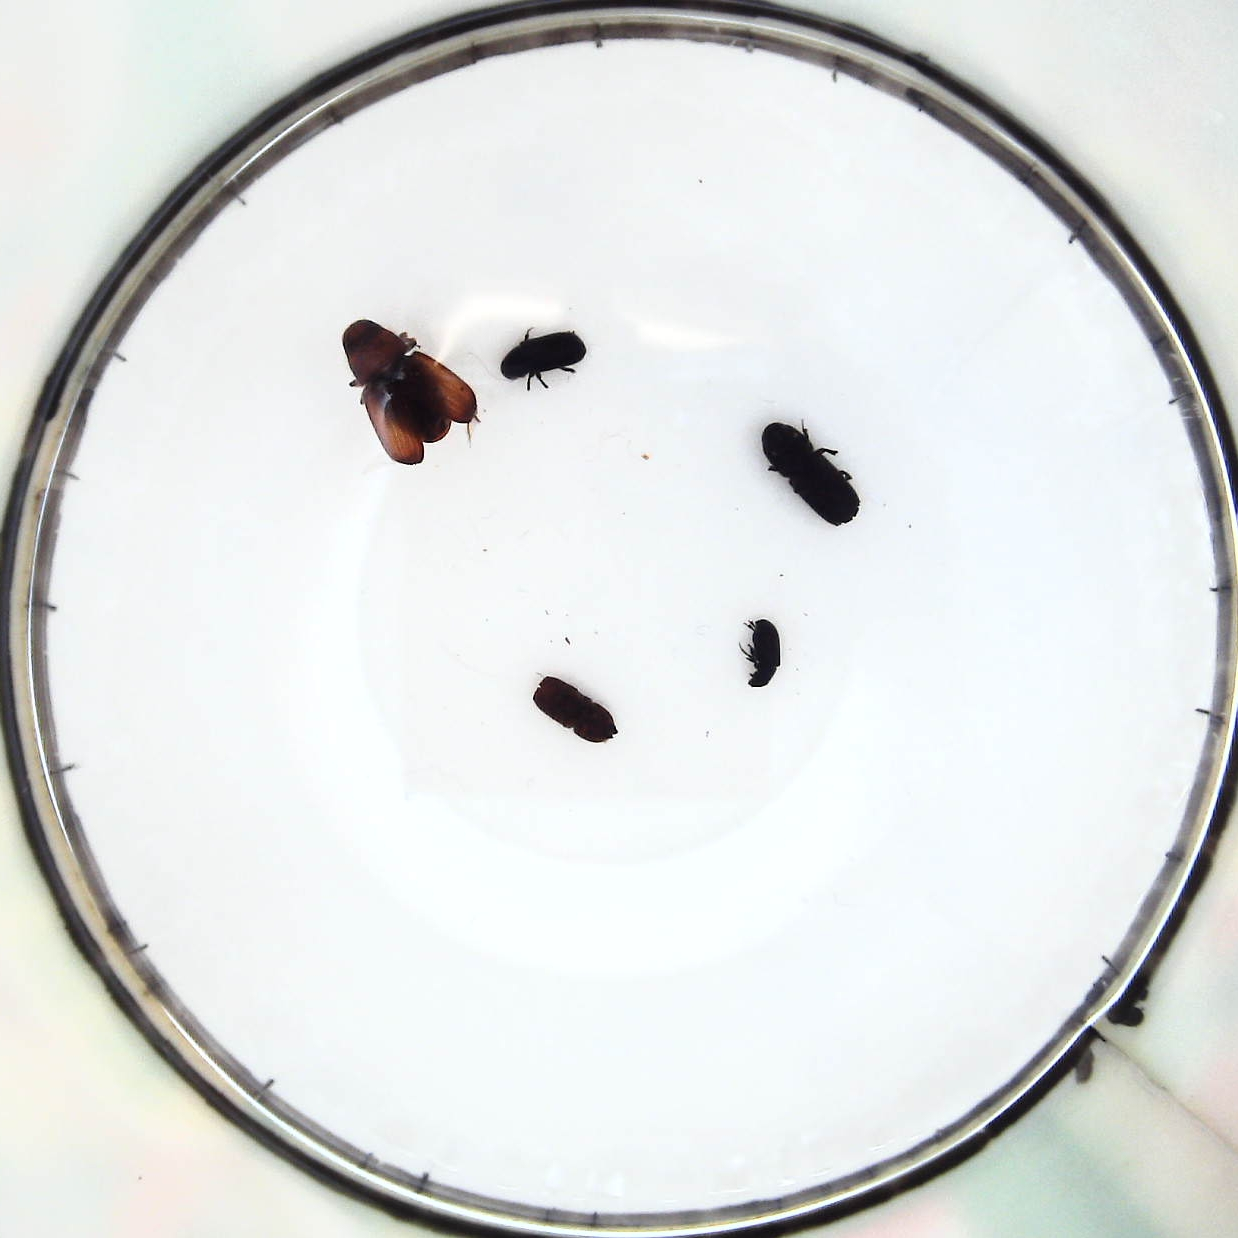Boerner: (753, 418, 865, 528)
Leconte: (341, 311, 480, 459)
Linnaeus: (529, 676, 616, 737)
armandi: (502, 325, 587, 384)
coleoptera: (741, 618, 785, 686)
